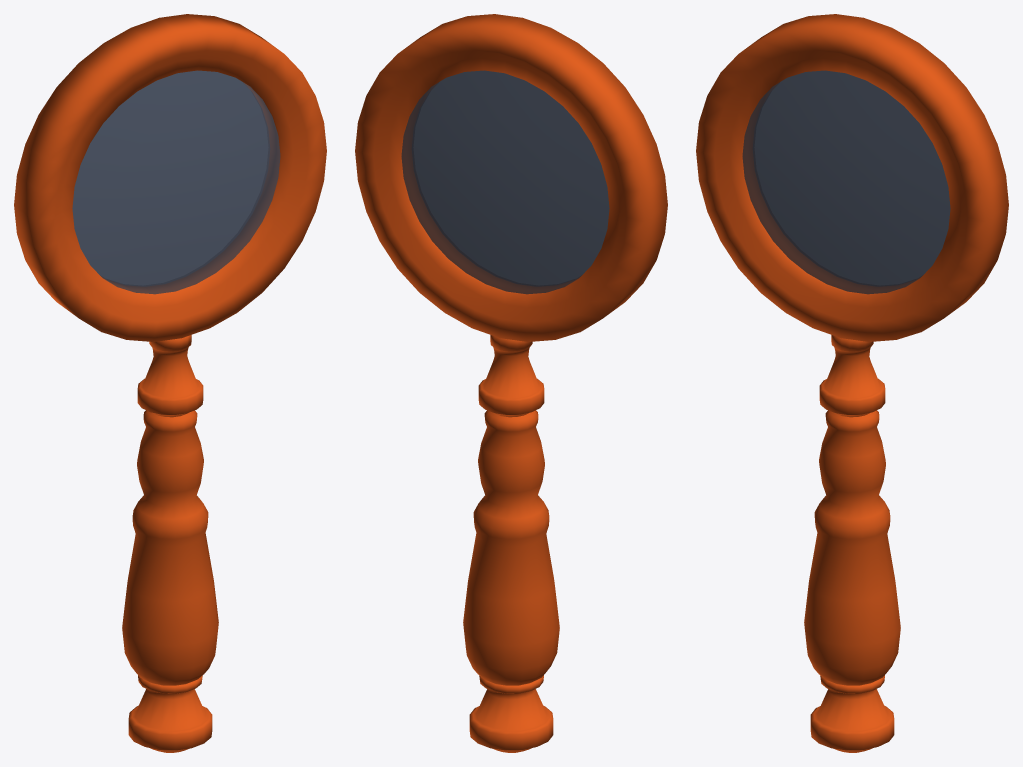
File: magnifier1_01.FBX
The picture shows the model from 3 angles, left to right: view 1: azimuth 30°, elevation 25°; view 2: azimuth 150°, elevation 25°; view 3: azimuth 330°, elevation 25°; orthographic projection.
Parts seen in each view (by area): view 1: magnifier1_00; view 2: magnifier1_00; view 3: magnifier1_00.
Part boxes in pixels (x1=…): magnifier1_00: x1=14, y1=14, x2=326, y2=752; magnifier1_00: x1=355, y1=14, x2=667, y2=752; magnifier1_00: x1=696, y1=14, x2=1008, y2=752.
Size of the model in its own units: 8.4 by 19.89 by 2.45.
